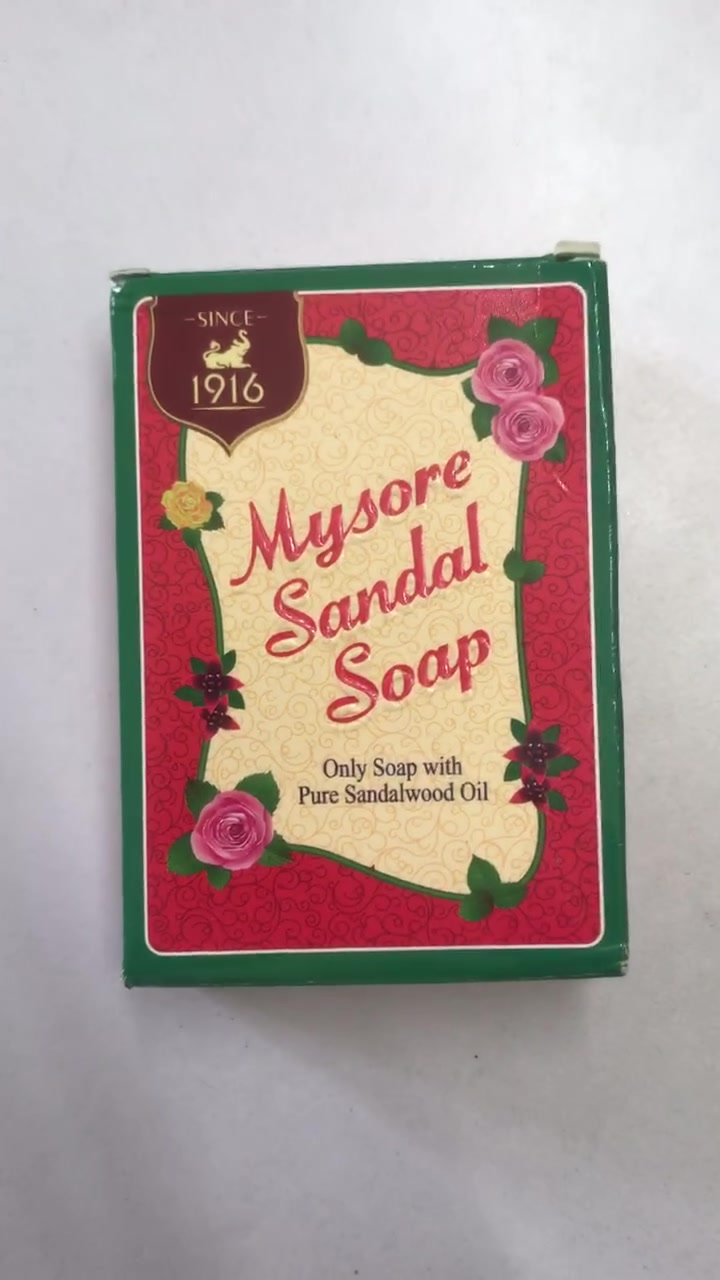mysore sandal soap: (117, 262, 624, 980)
